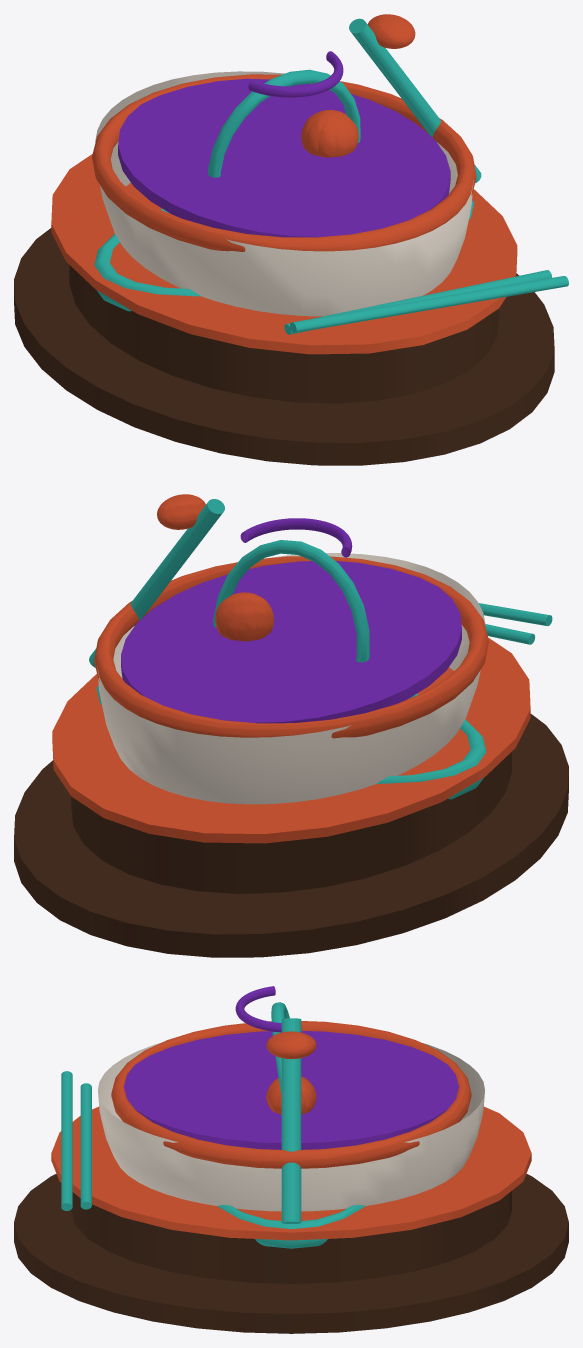
Rendered from 0331_揭秘食物图鉴_长嘴茶壶.glb.
3 renders of one model, top to bottom at view 1: azimuth 30°, elevation 25°; view 2: azimuth 150°, elevation 25°; view 3: azimuth 270°, elevation 25°, orthographic. The views are drawn at different scales.
Parts seen in each view (by area): view 1: card_0331; view 2: card_0331; view 3: card_0331.
Part boxes in pixels (bbox=[...]): card_0331: bbox=[14, 14, 568, 465]; card_0331: bbox=[14, 494, 568, 957]; card_0331: bbox=[14, 986, 568, 1333].
Bounding box in the file's own units: 1.51 × 1 × 1.93.
